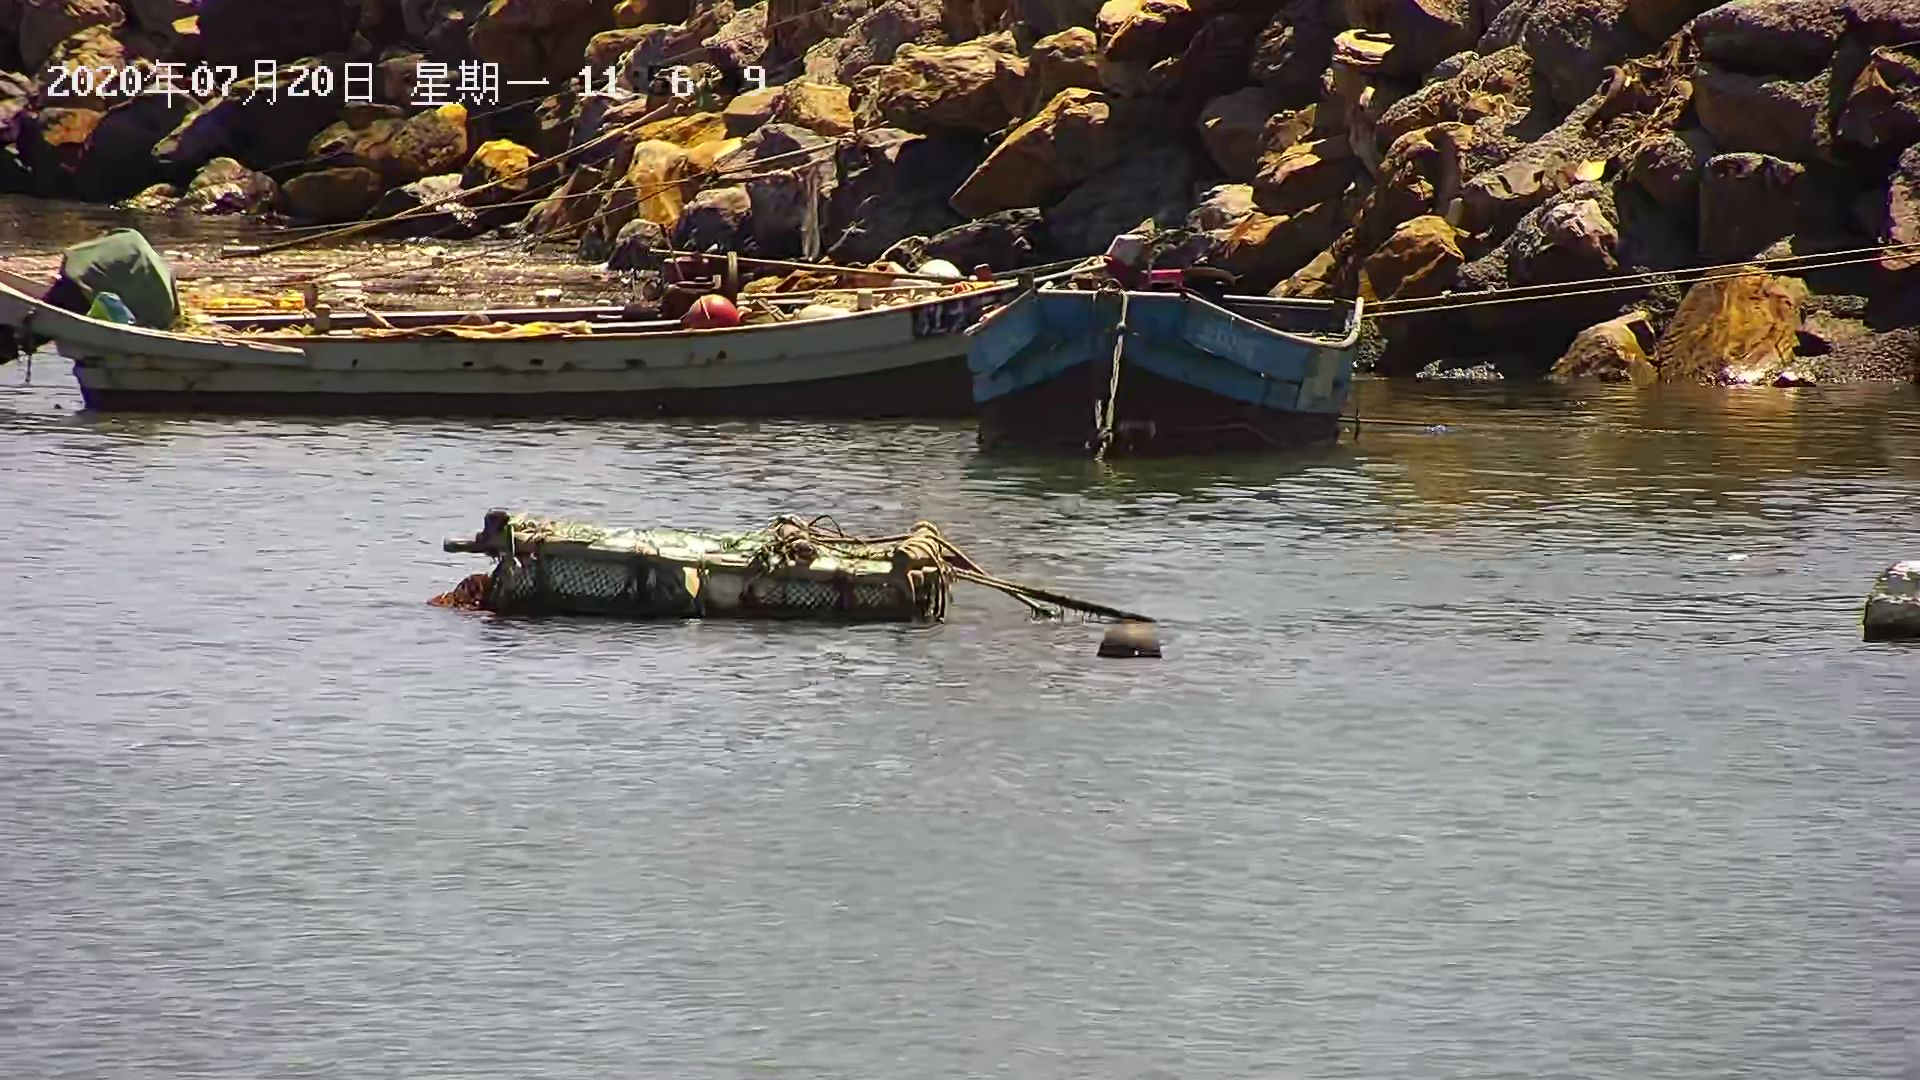ball: (1087, 618, 1171, 665)
boat: (1, 225, 1030, 430), (973, 251, 1381, 458)
rubbish: (419, 506, 972, 640)
